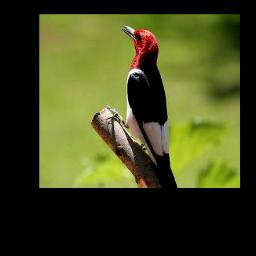Woodpecker: (117, 22, 180, 187)
